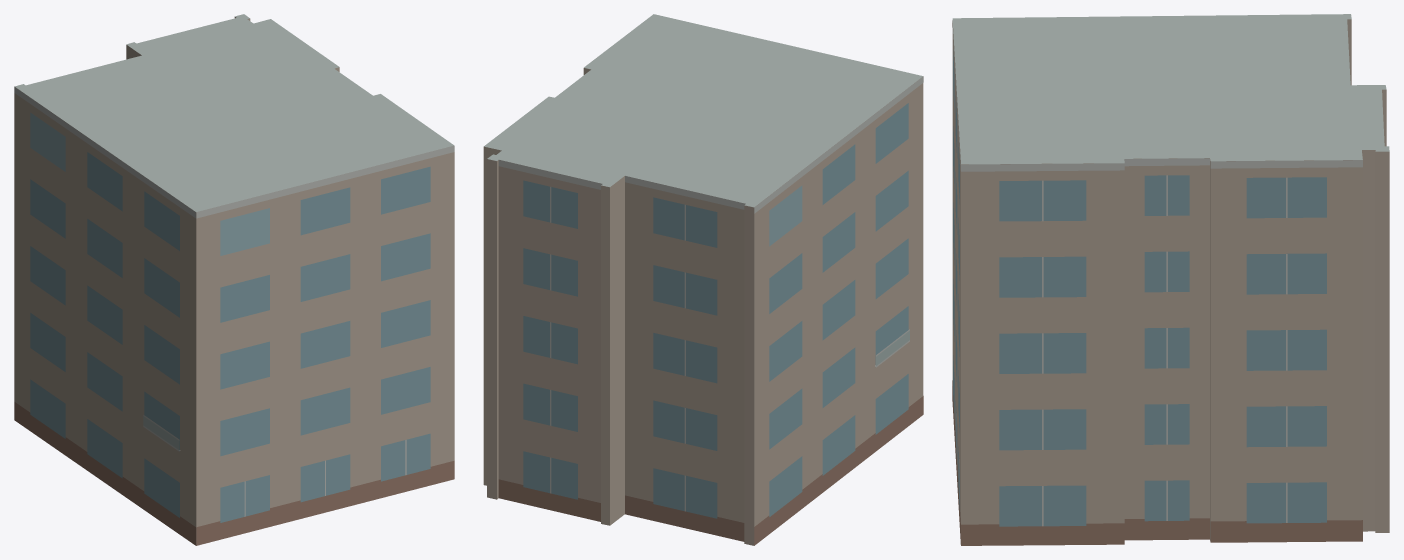
The model's file is survey-upis-32698376.glb.
The picture shows the model from 3 angles, left to right: view 1: azimuth 30°, elevation 25°; view 2: azimuth 150°, elevation 25°; view 3: azimuth 270°, elevation 25°; orthographic projection. The views are drawn at different scales.
Parts seen in each view (by area): view 1: survey-upis-32698376.tmp; view 2: survey-upis-32698376.tmp; view 3: survey-upis-32698376.tmp.
Boxes of the visible parts, x1,y1,x2,y2 form: survey-upis-32698376.tmp: [14, 14, 454, 545]; survey-upis-32698376.tmp: [483, 14, 923, 545]; survey-upis-32698376.tmp: [952, 14, 1389, 545].
Bounding box in the file's own units: 10.75 × 12.7 × 13.19.
